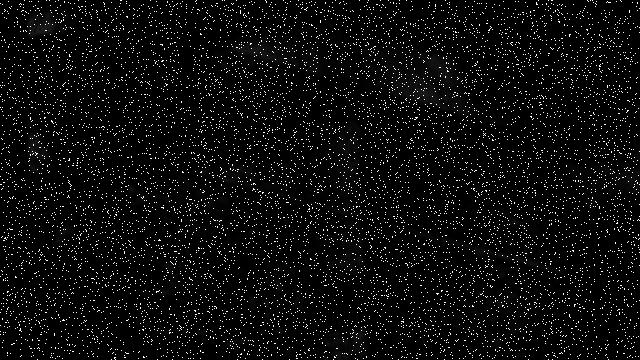pot: (27, 33, 161, 186), (519, 75, 636, 166), (580, 192, 640, 340)
